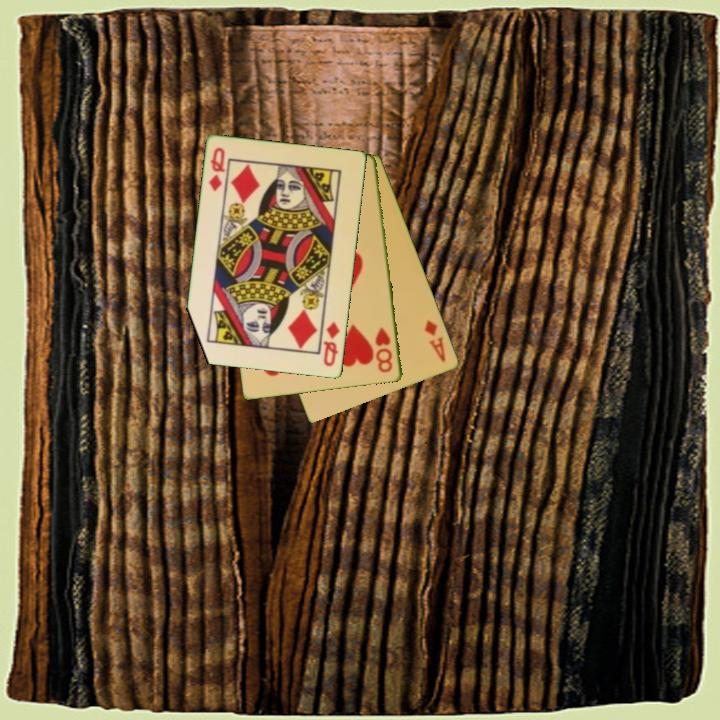8h: (372, 324, 395, 376)
Ad: (421, 316, 449, 365)
Qd: (320, 319, 343, 370), (206, 144, 228, 195)
